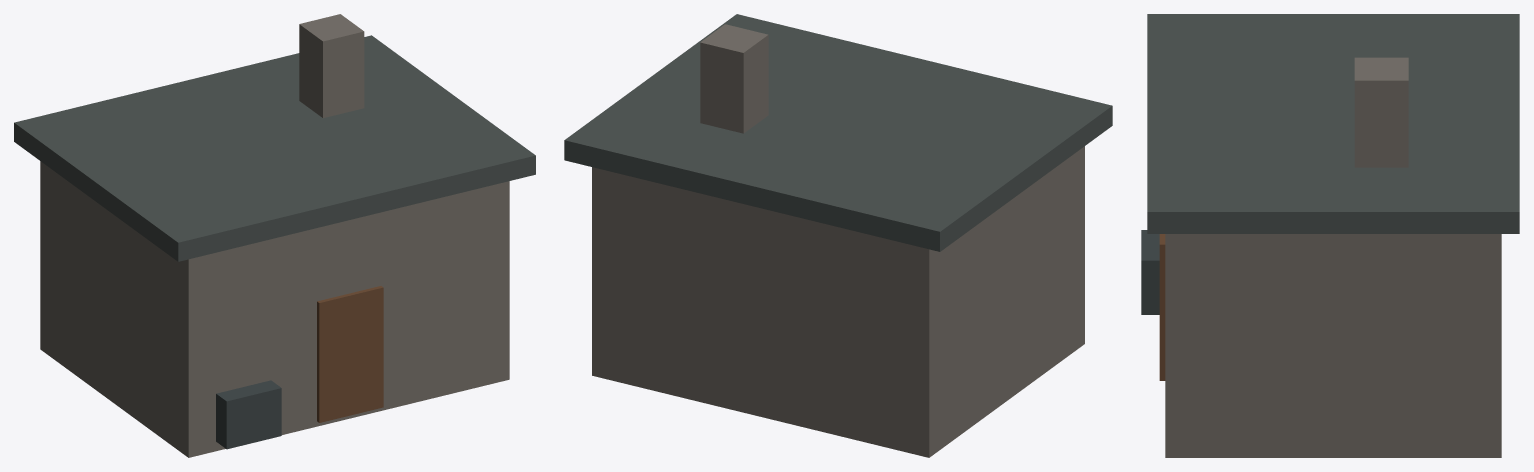
Rendered from Forge.glb.
3 views of the same model, side by side, from view 1: azimuth 30°, elevation 25°; view 2: azimuth 150°, elevation 25°; view 3: azimuth 270°, elevation 25° (orthographic). The views are drawn at different scales.
Parts seen in each view (by area): view 1: hand-pump-static-forge-stone, hand-pump-static-forge-roof, hand-pump-static-forge-timber, hand-pump-static-forge-iron; view 2: hand-pump-static-forge-stone, hand-pump-static-forge-roof; view 3: hand-pump-static-forge-stone, hand-pump-static-forge-roof, hand-pump-static-forge-iron, hand-pump-static-forge-timber.
Boxes of the visible parts, x1=… form: hand-pump-static-forge-stone: x1=40, y1=14, x2=509, y2=457; hand-pump-static-forge-roof: x1=14, y1=35, x2=535, y2=261; hand-pump-static-forge-timber: x1=317, y1=286, x2=383, y2=422; hand-pump-static-forge-iron: x1=216, y1=380, x2=281, y2=449; hand-pump-static-forge-stone: x1=592, y1=24, x2=1084, y2=457; hand-pump-static-forge-roof: x1=564, y1=14, x2=1112, y2=251; hand-pump-static-forge-stone: x1=1165, y1=57, x2=1501, y2=457; hand-pump-static-forge-roof: x1=1147, y1=14, x2=1519, y2=233; hand-pump-static-forge-iron: x1=1141, y1=230, x2=1159, y2=314; hand-pump-static-forge-timber: x1=1159, y1=234, x2=1165, y2=380.
Bounding box in the file's own units: 3.9 × 3.15 × 3.15.
